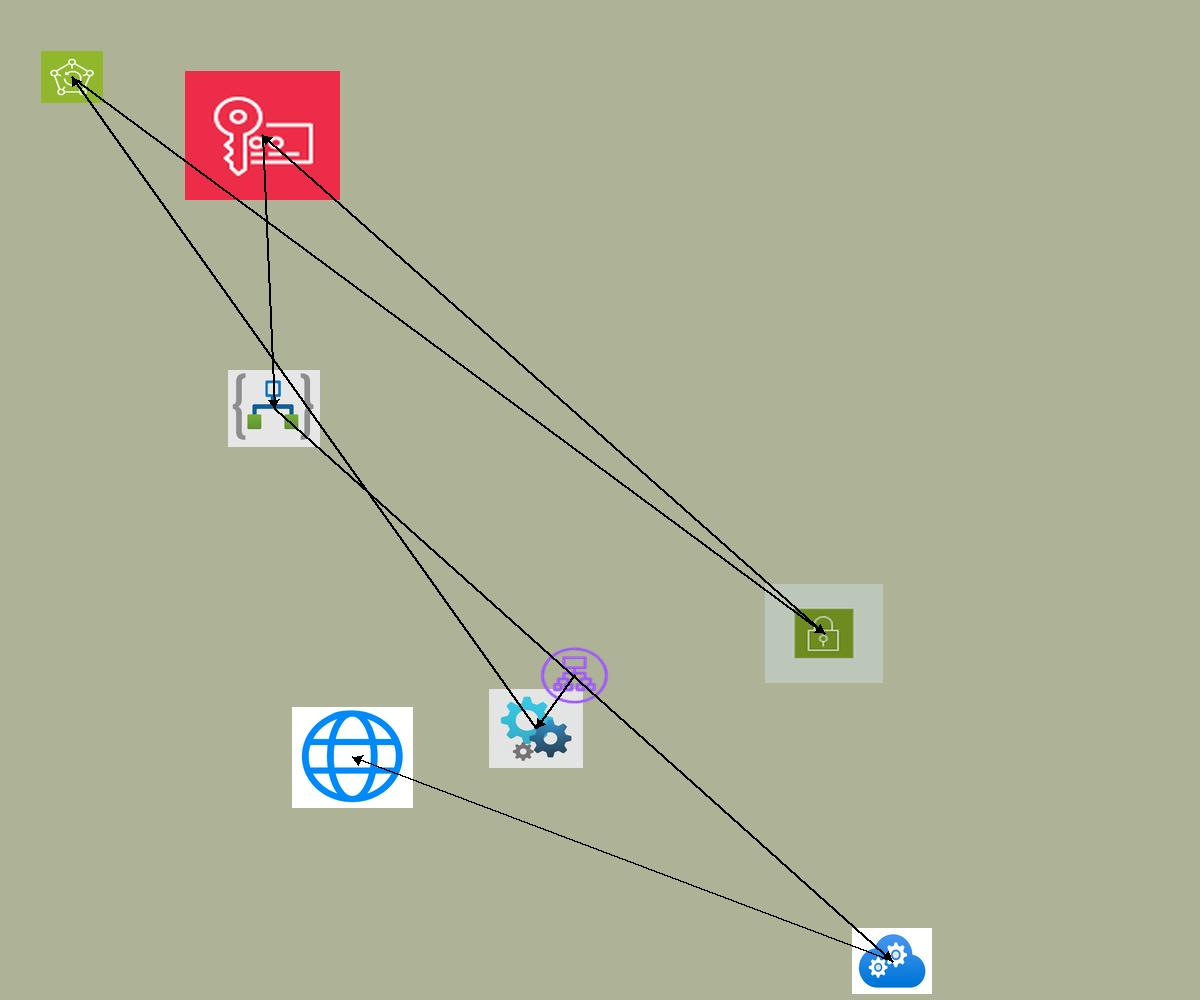AWS-Backup: (41, 51, 103, 103)
AWS-Key-Management-Service: (185, 71, 340, 200)
AWS-Public-subnet: (765, 584, 883, 683)
AWS-Res_Elastic-Load-Balancing_Application-Load-Balancer: (538, 645, 611, 706)
Azure_api: (489, 689, 583, 768)
Azure_cloud_services: (852, 928, 932, 994)
Azure_http: (292, 707, 413, 808)
Azure_integration-204-Logic-Apps: (228, 370, 320, 447)
